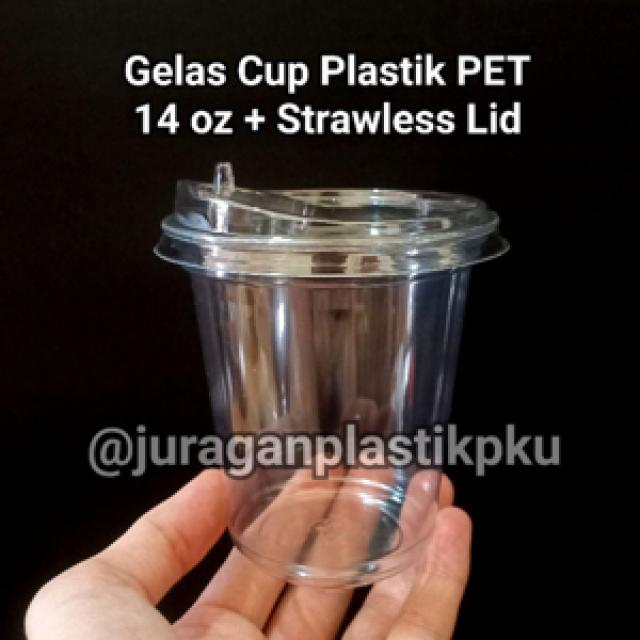plastic cup: (145, 158, 512, 593)
